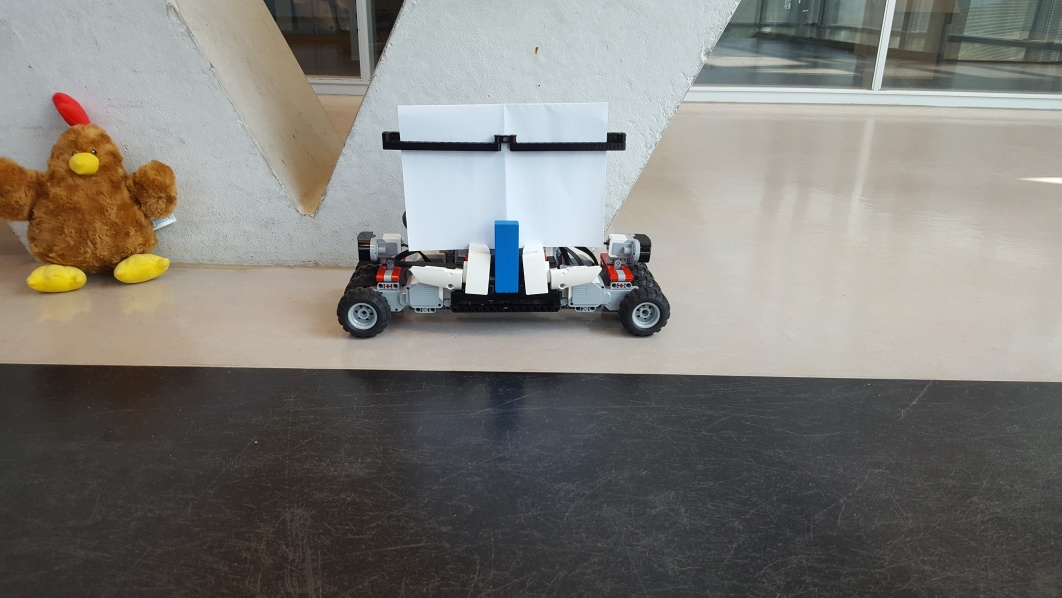car: (337, 100, 671, 338)
chicken: (2, 92, 180, 294)
